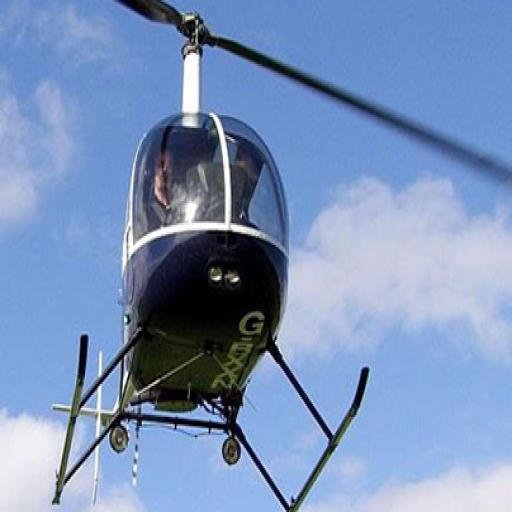helicopter: (58, 3, 369, 512)
